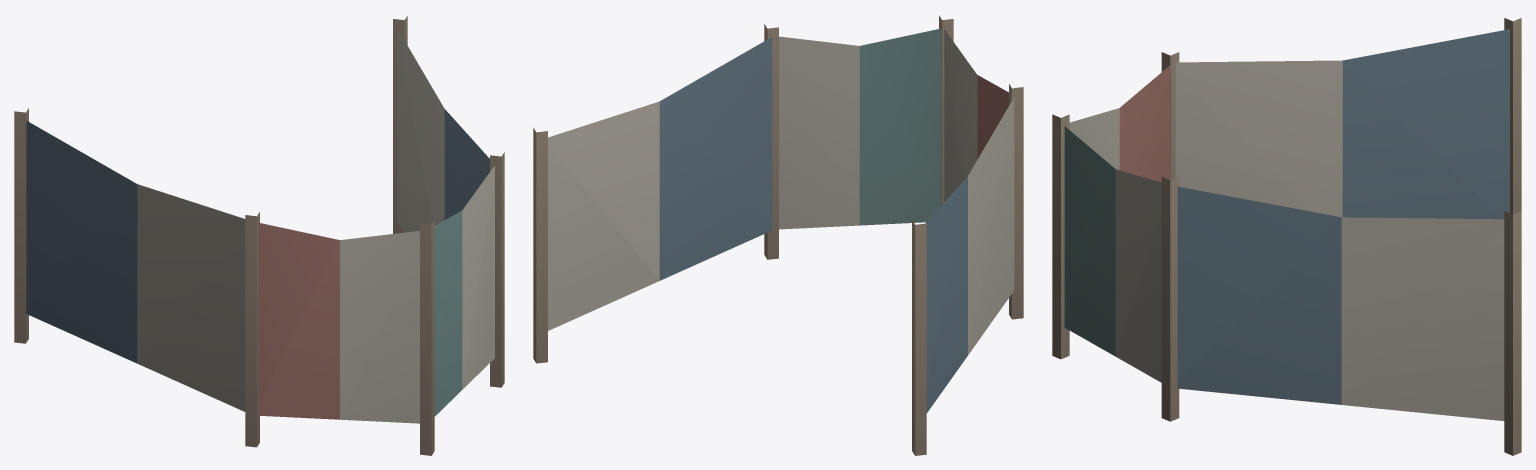
Rendered from windbreak.lod2.glb.
The picture shows the model from 3 angles, left to right: view 1: azimuth 30°, elevation 25°; view 2: azimuth 150°, elevation 25°; view 3: azimuth 270°, elevation 25°; orthographic projection. The views are drawn at different scales.
Size of the model in its own units: 1.99 by 1.12 by 1.97.
